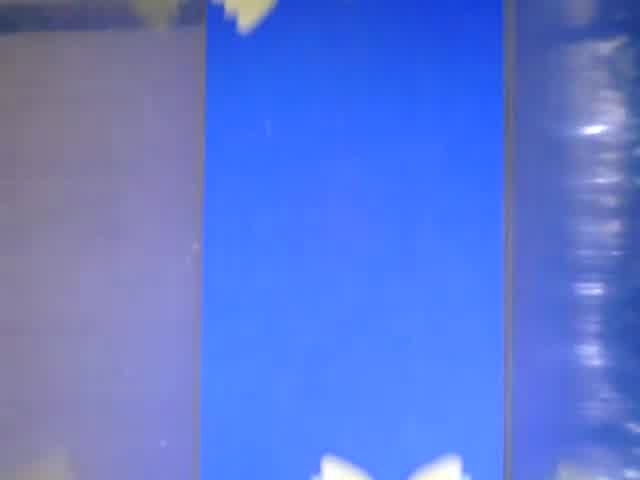farfalle: (219, 1, 284, 37)
